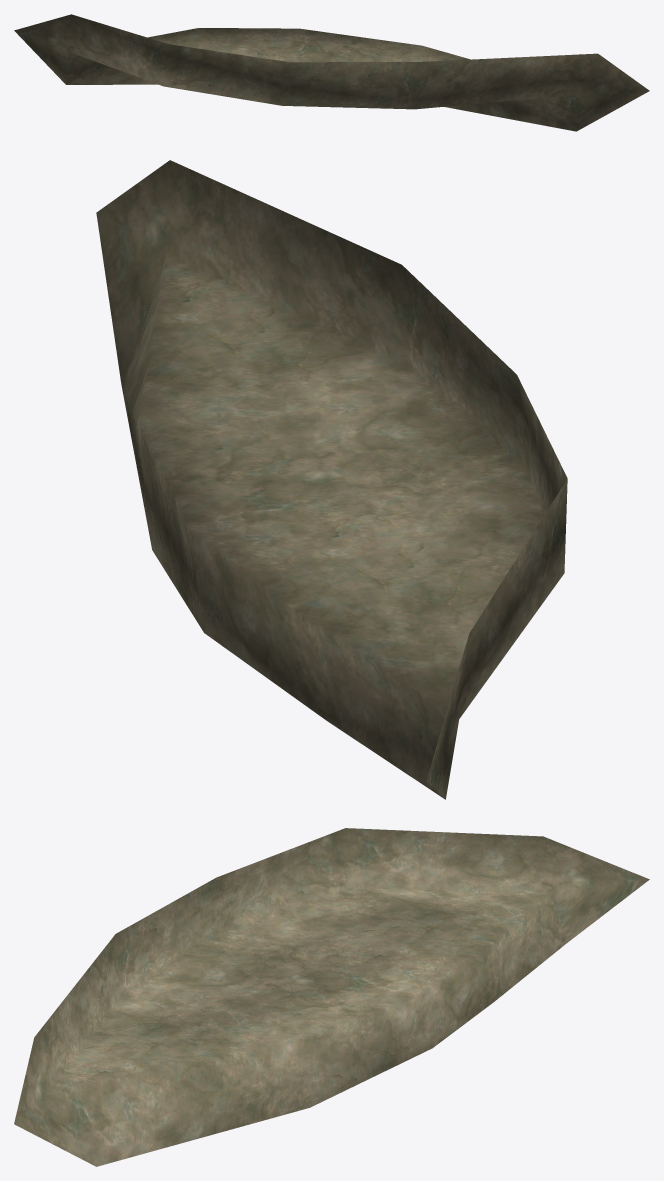
The model's file is EKH_THRONE_PS_TH_PLATFORM_978.fbx.
3 views of the same model, one above another, from view 1: azimuth 30°, elevation 25°; view 2: azimuth 150°, elevation 25°; view 3: azimuth 270°, elevation 25° (orthographic). The views are drawn at different scales.
Parts seen in each view (by area): view 1: EKH_THRONE_PS_TH_PLATFORM_978; view 2: EKH_THRONE_PS_TH_PLATFORM_978; view 3: EKH_THRONE_PS_TH_PLATFORM_978.
Boxes of the visible parts, bbox=[...] form: EKH_THRONE_PS_TH_PLATFORM_978: bbox=[14, 14, 649, 131]; EKH_THRONE_PS_TH_PLATFORM_978: bbox=[96, 160, 567, 799]; EKH_THRONE_PS_TH_PLATFORM_978: bbox=[14, 828, 649, 1166].
Size of the model in its own units: 45410 by 11150 by 46242.
Materials: 1 (1 with a texture image).
